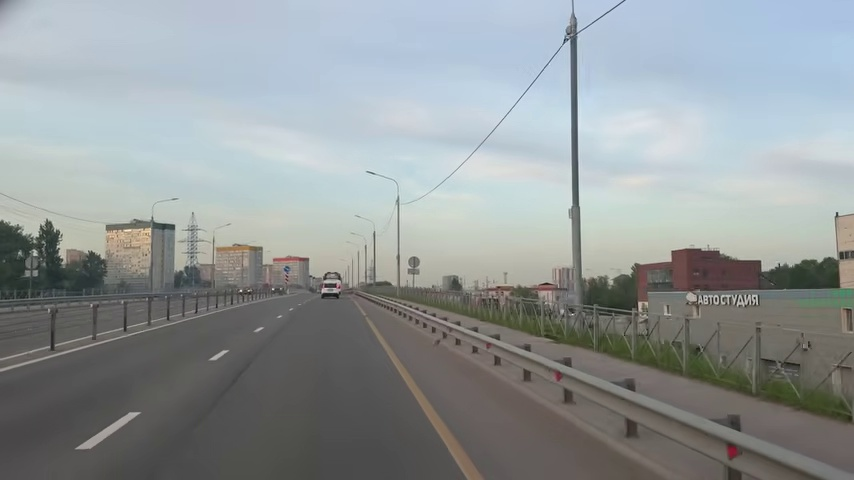apagada: (362, 167, 379, 179)
